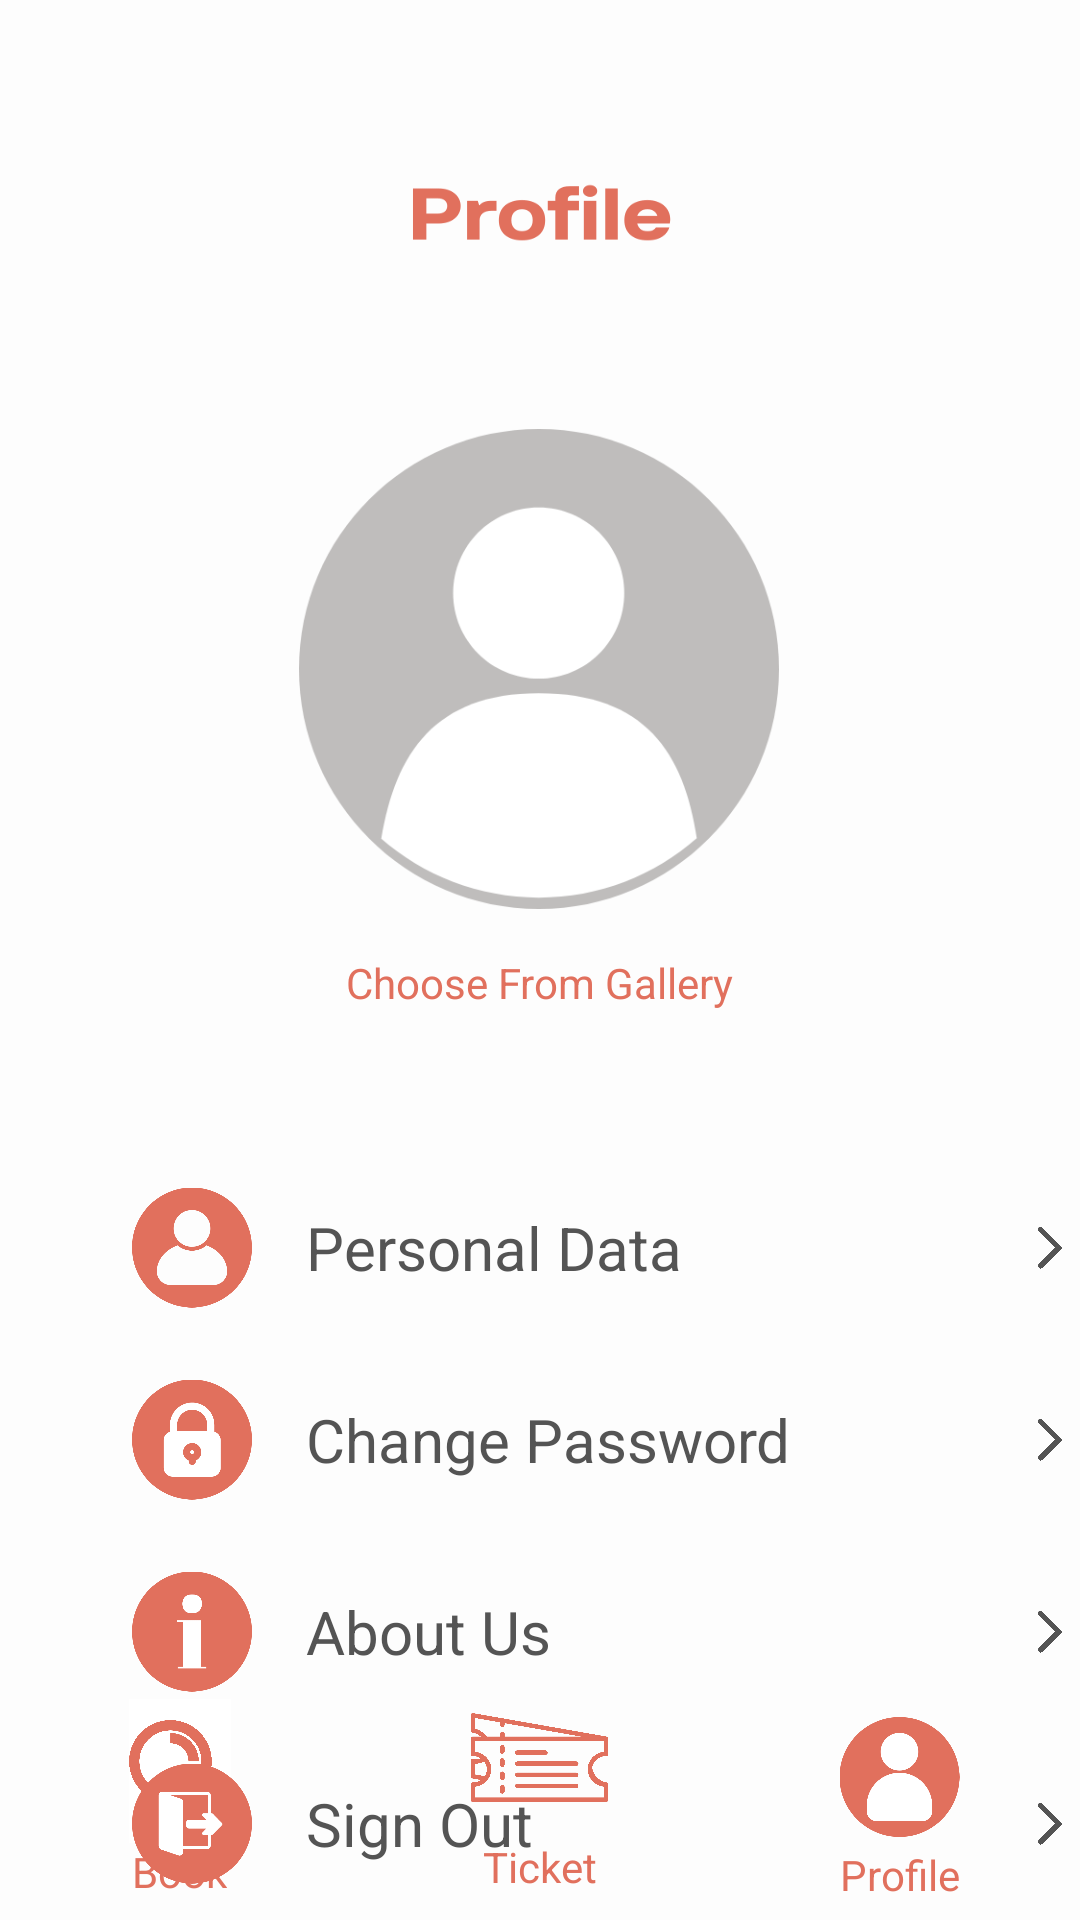

Where to tap for icons on this 1080 x 1920 app screen, as [x,y]:
arrow: [1050,1248], [1050,1440], [1050,1632], [1050,1824]
